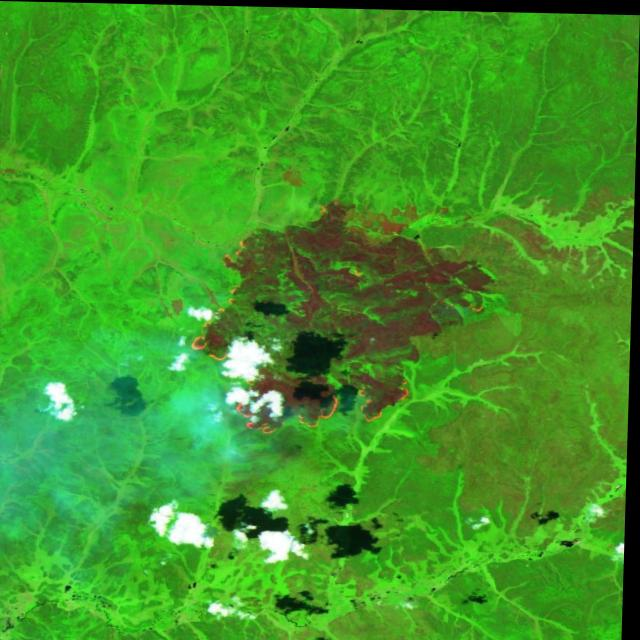fire: (226, 367, 428, 439), (185, 218, 267, 366), (313, 192, 352, 214), (463, 296, 489, 310)
